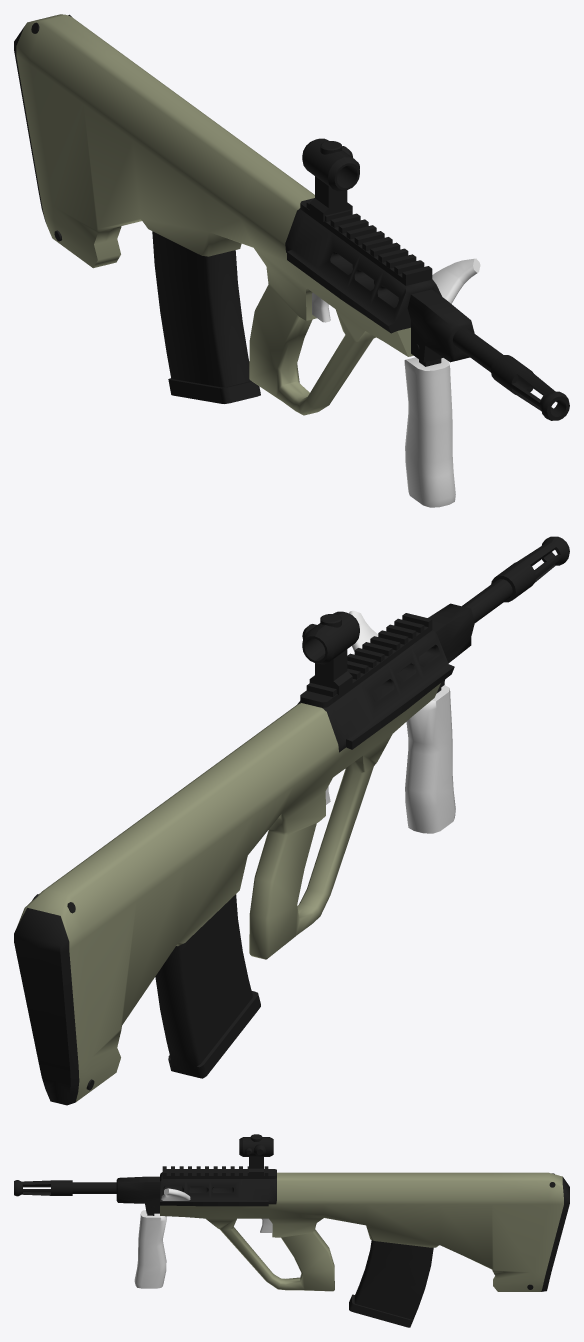
File: Weapon_BurstRifle.fbx
3 renders of one model, top to bottom at view 1: azimuth 30°, elevation 25°; view 2: azimuth 150°, elevation 25°; view 3: azimuth 270°, elevation 25°, orthographic. The views are drawn at different scales.
Parts seen in each view (by area): view 1: Body, Clip, RedDot_1, Cube; view 2: Body, Clip, RedDot_1; view 3: Body, Clip, RedDot_1, Cube, RedDot_2.
Boxes of the visible parts, <box> form: Body: <box>14,14,569,507</box>; Clip: <box>152,231,260,403</box>; RedDot_1: <box>302,138,359,221</box>; Cube: <box>432,258,480,303</box>; Body: <box>14,536,569,1105</box>; Clip: <box>155,894,260,1078</box>; RedDot_1: <box>302,611,359,694</box>; Body: <box>14,1166,569,1291</box>; Clip: <box>349,1240,433,1327</box>; RedDot_1: <box>239,1137,273,1176</box>; Cube: <box>161,1188,190,1200</box>; RedDot_2: <box>245,1134,266,1156</box>.
Bounding box in the file's own units: 94.24 × 316 × 851.
